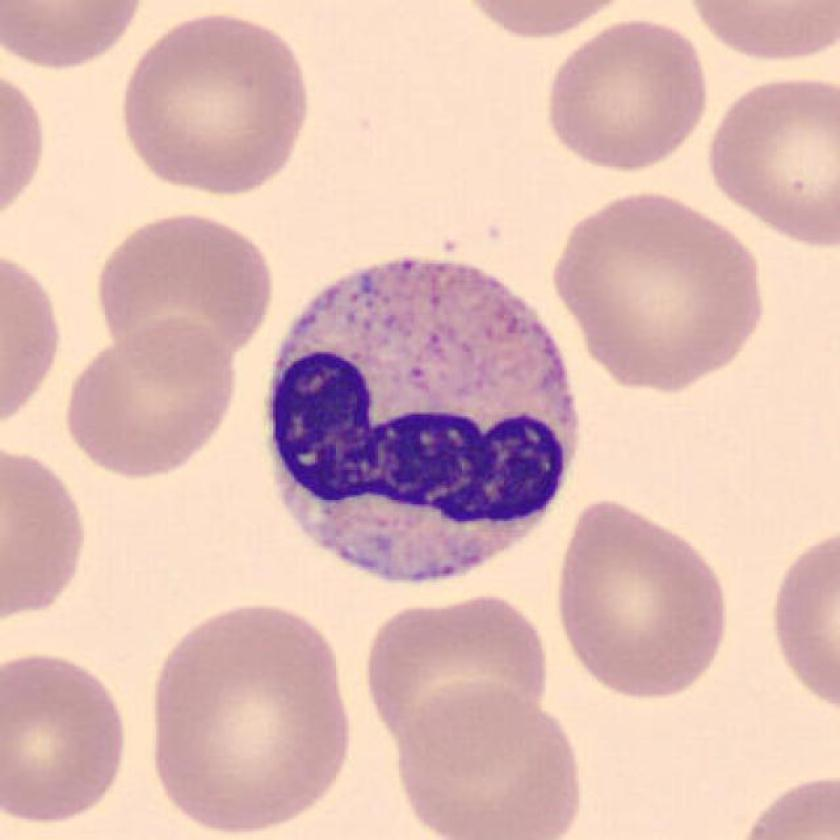neutrophil: (269, 261, 581, 585)
